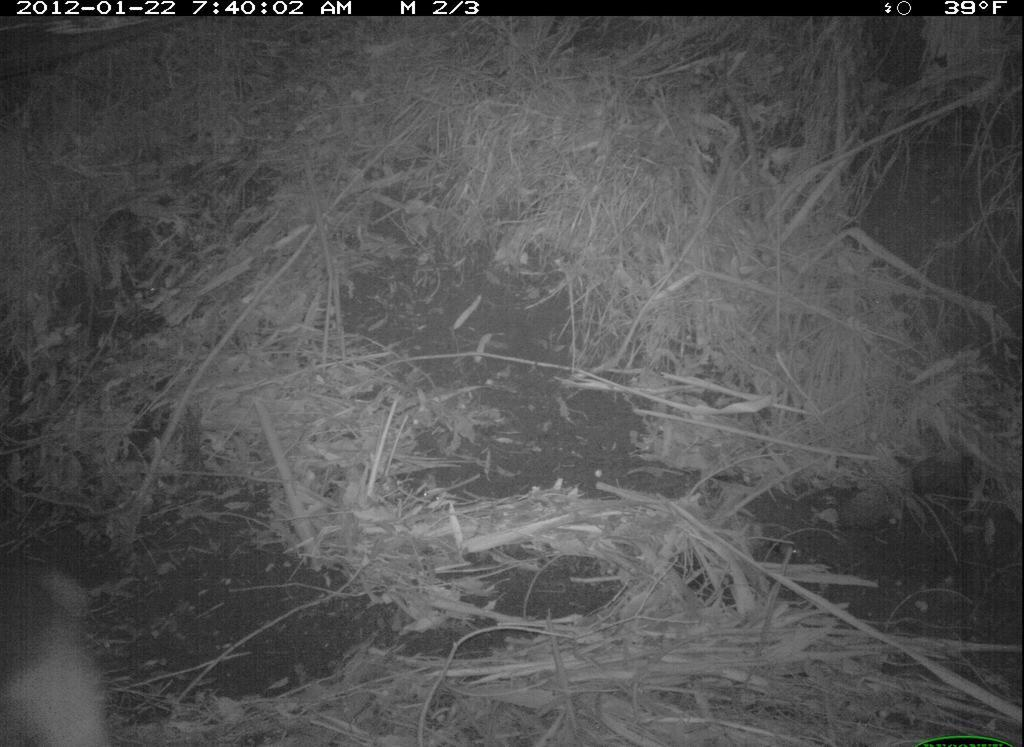dog: (8, 545, 122, 747)
